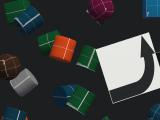Left: (95, 32, 160, 103)
